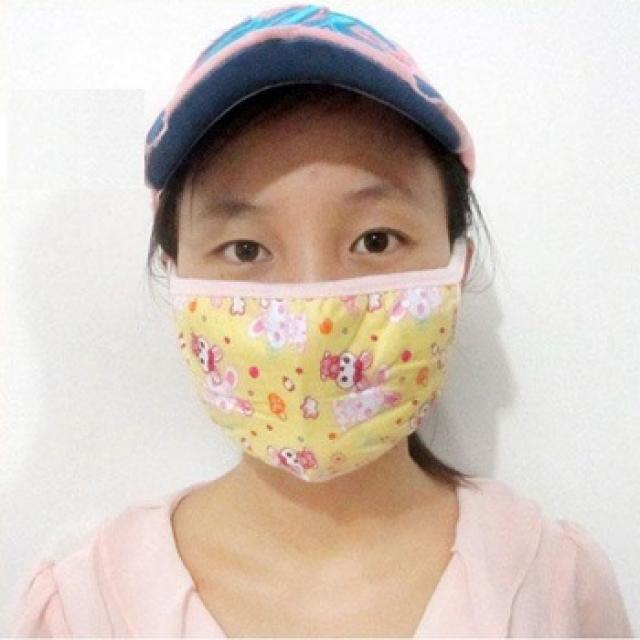mask: (178, 104, 456, 478)
